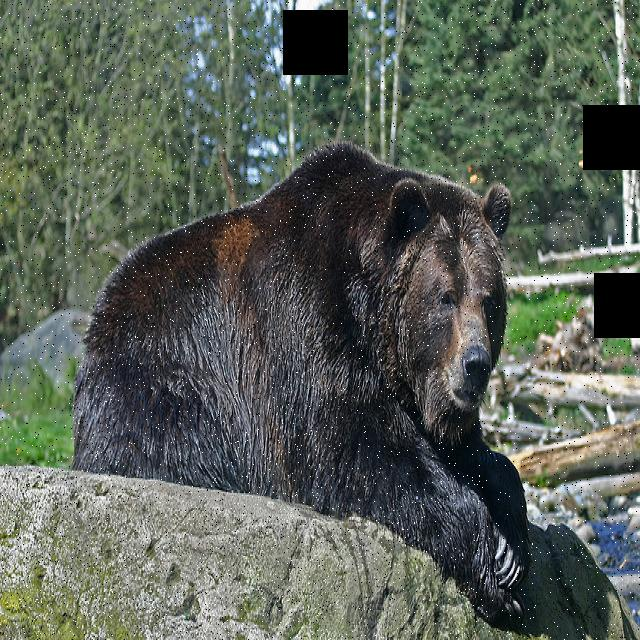Bear: (60, 128, 532, 621)
